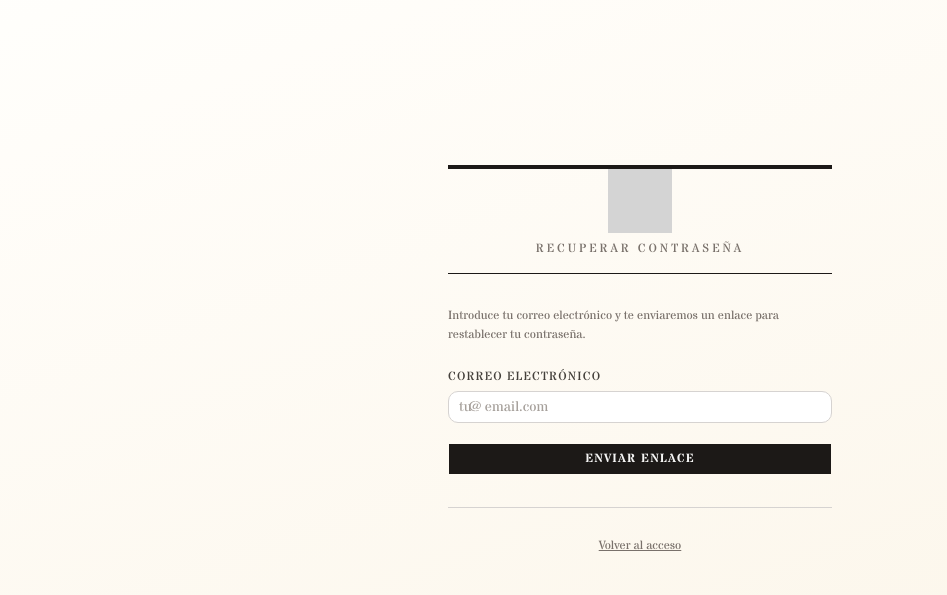
Test case: ForgotPassword › shows error message when API fails
Type "user@test.com" into the field with placeholder "tu@email.com" at [640, 406], box [448,390,832,422]
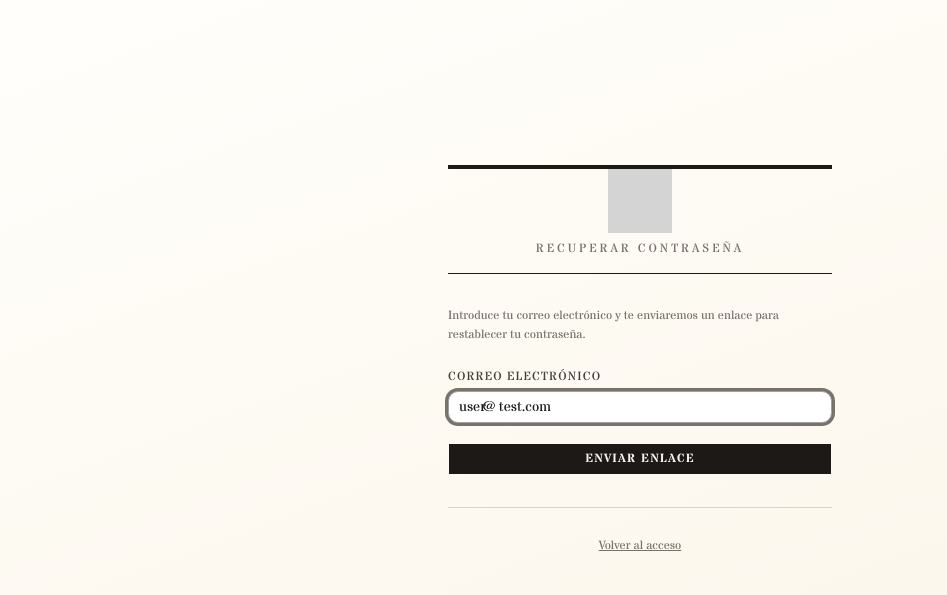
Click the button "Enviar enlace" at [640, 458], box [448,442,832,474]
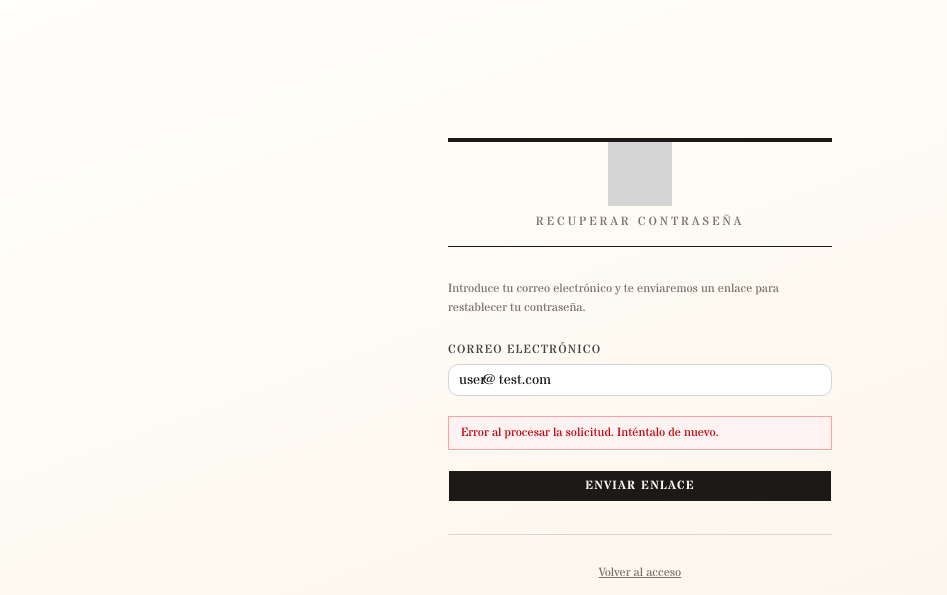
Check: the text "Error al procesar la solicitud. Inténtalo de nuevo." is shown, box [448,416,832,450]
